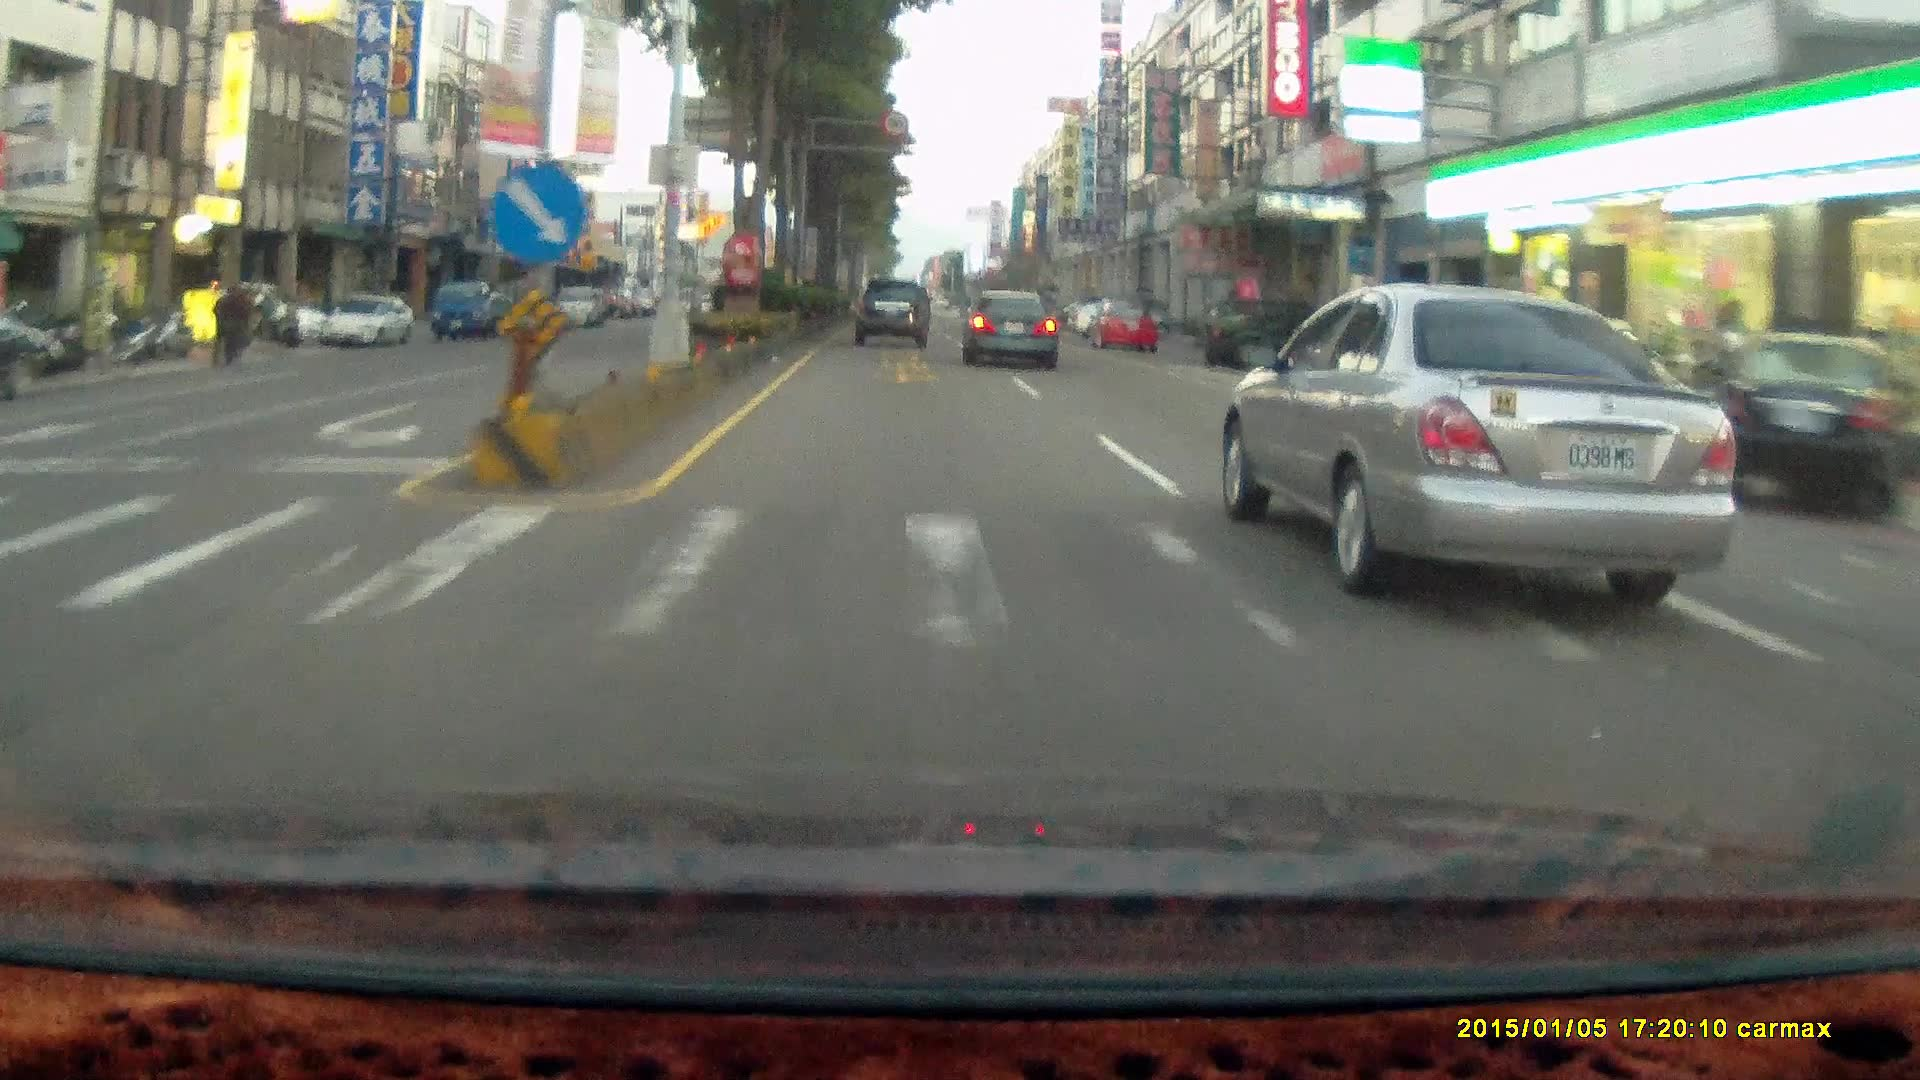pedestrian: (221, 283, 253, 368), (216, 279, 246, 365)
vehicle: (1227, 286, 1738, 600), (1717, 332, 1902, 515), (1728, 334, 1893, 529), (1331, 316, 1478, 424), (1211, 309, 1354, 381), (1201, 295, 1343, 366), (963, 294, 1061, 375), (204, 283, 326, 348), (960, 287, 1058, 367), (434, 286, 526, 353), (315, 294, 419, 352), (853, 283, 932, 356), (853, 278, 930, 348), (431, 283, 509, 344), (320, 295, 414, 346), (1089, 302, 1161, 360), (1083, 302, 1156, 356), (0, 317, 44, 397), (552, 288, 603, 331)
